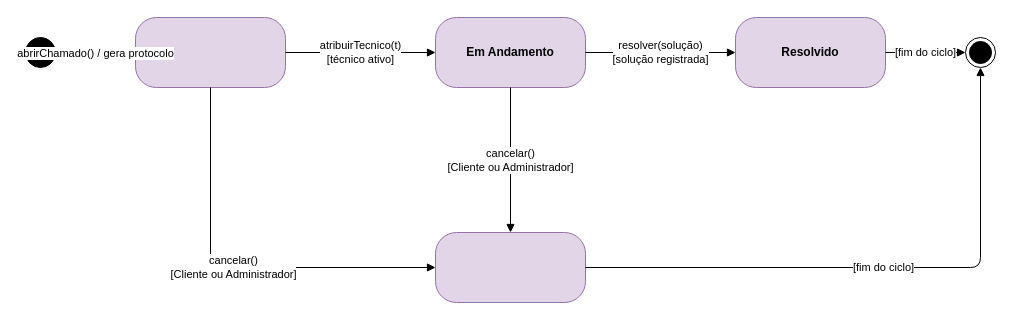
The diagram is 1014 pixels wide and 320 high, and some of its shapes have lost their labels. The centre of each missing label's shape, as x and y in pixels:
Cancelado: pixel 510 267
Pendente: pixel 210 52
